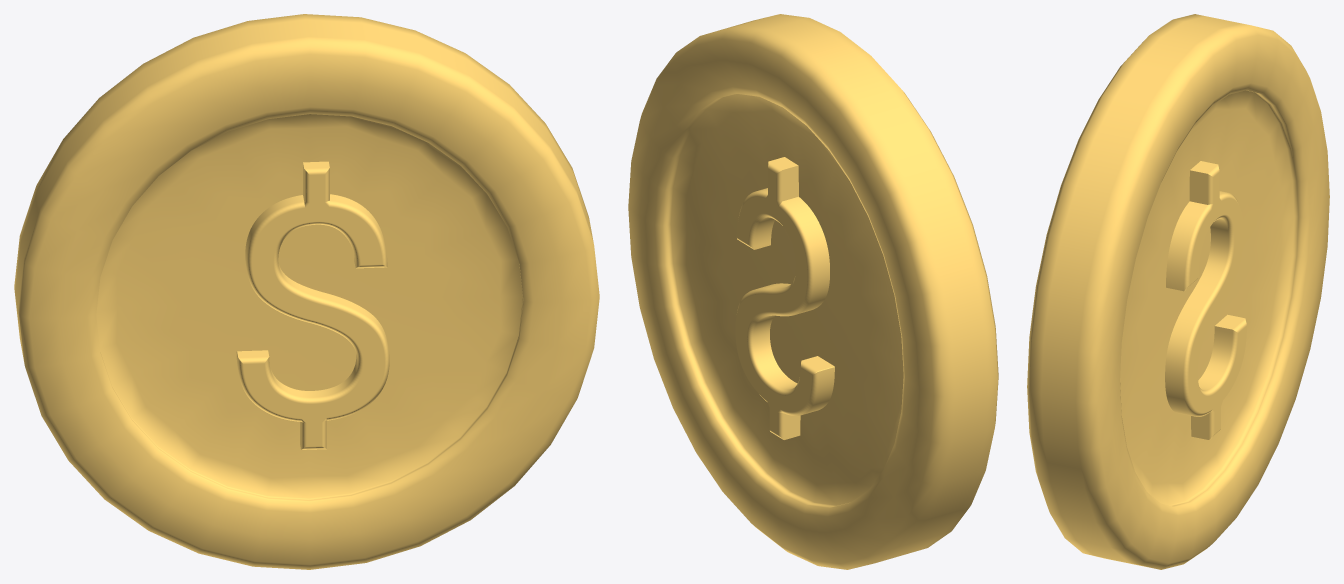
Rendered from Coin.glb.
3 renders of one model, left to right at view 1: azimuth 30°, elevation 25°; view 2: azimuth 150°, elevation 25°; view 3: azimuth 270°, elevation 25°, orthographic. The views are drawn at different scales.
Parts seen in each view (by area): view 1: Cylinder, $; view 2: Cylinder, $; view 3: Cylinder, $.
Part boxes in pixels (<box>): Cylinder: <box>14,14,599,569</box>; $: <box>236,161,389,449</box>; Cylinder: <box>628,14,998,569</box>; $: <box>735,157,834,439</box>; Cylinder: <box>1027,14,1329,569</box>; $: <box>1165,161,1246,439</box>.
Size of the model in its own units: 0.402 by 0.4223 by 0.231.
